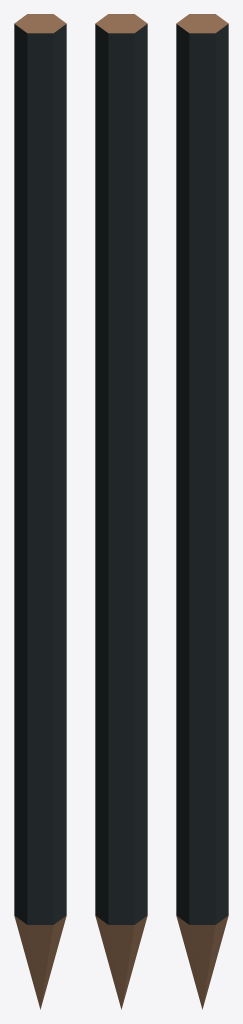
Rendered from pen1.fbx.
The picture shows the model from 3 angles, left to right: view 1: azimuth 90°, elevation 25°; view 2: azimuth 150°, elevation 25°; view 3: azimuth 270°, elevation 25°; orthographic projection.
Parts seen in each view (by area): view 1: Cylinder; view 2: Cylinder; view 3: Cylinder.
Boxes of the visible parts, bbox=[...] form: Cylinder: bbox=[14, 14, 66, 1009]; Cylinder: bbox=[95, 14, 147, 1009]; Cylinder: bbox=[176, 14, 228, 1009].
Bounding box in the file's own units: 0.0316 × 0.7555 × 0.0365.
